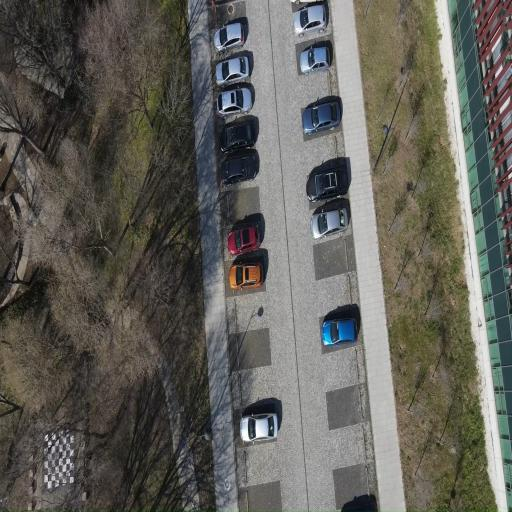car: (306, 166, 349, 202), (302, 102, 341, 135), (217, 86, 253, 118), (311, 207, 347, 238), (220, 155, 257, 184), (240, 413, 278, 441), (220, 122, 255, 152), (294, 5, 326, 37), (216, 56, 250, 86), (228, 225, 260, 255), (229, 263, 263, 290), (322, 319, 357, 345), (214, 23, 244, 52), (300, 46, 329, 74), (291, 0, 317, 4)
